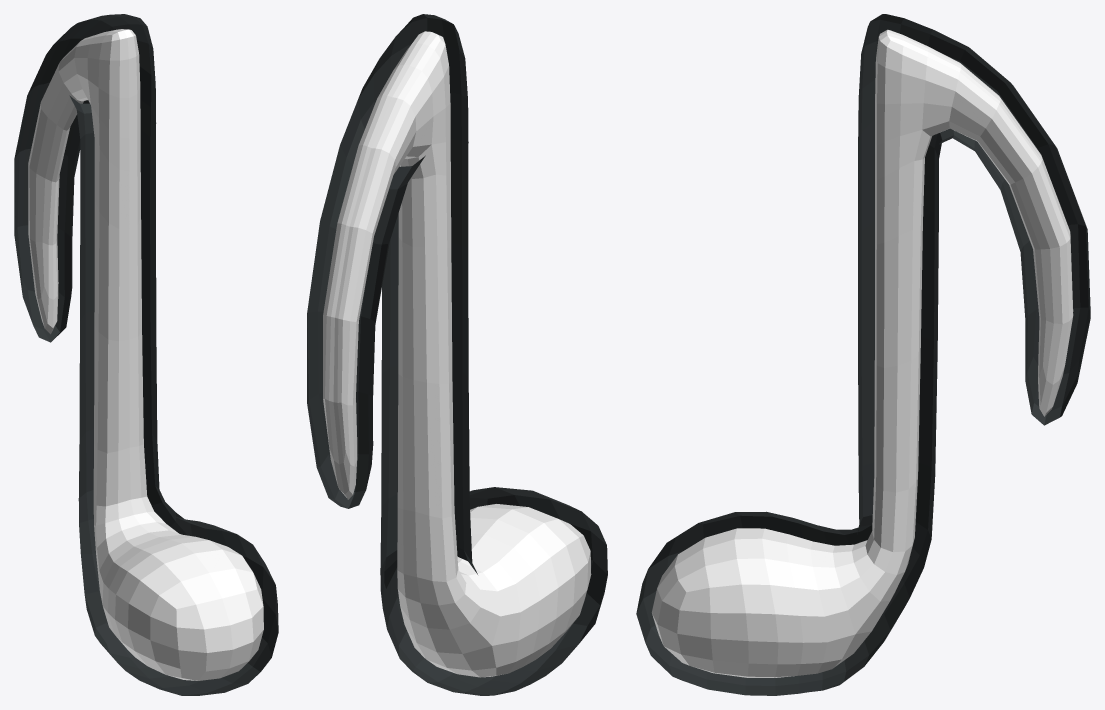
The model's file is LD51NoteParticle1.fbx.
The picture shows the model from 3 angles, left to right: view 1: azimuth 30°, elevation 25°; view 2: azimuth 150°, elevation 25°; view 3: azimuth 270°, elevation 25°; orthographic projection. The views are drawn at different scales.
Parts seen in each view (by area): view 1: Note_Particle1, Note_Particle1_Outline; view 2: Note_Particle1, Note_Particle1_Outline; view 3: Note_Particle1, Note_Particle1_Outline.
Part boxes in pixels (bbox=[...]): Note_Particle1: bbox=[28, 29, 263, 680]; Note_Particle1_Outline: bbox=[14, 14, 278, 695]; Note_Particle1: bbox=[323, 31, 591, 677]; Note_Particle1_Outline: bbox=[307, 14, 607, 695]; Note_Particle1: bbox=[651, 29, 1073, 677]; Note_Particle1_Outline: bbox=[636, 14, 1090, 695].
Bounding box in the file's own units: 224 × 555 × 900.
